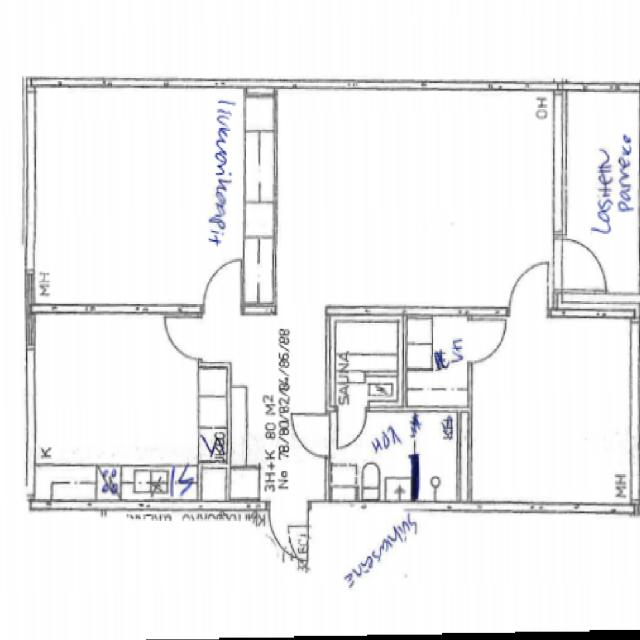door: (554, 239, 604, 291), (269, 502, 308, 561), (510, 263, 547, 318), (204, 264, 240, 318), (291, 415, 331, 458), (467, 321, 505, 361), (165, 320, 201, 360), (338, 407, 366, 446)
